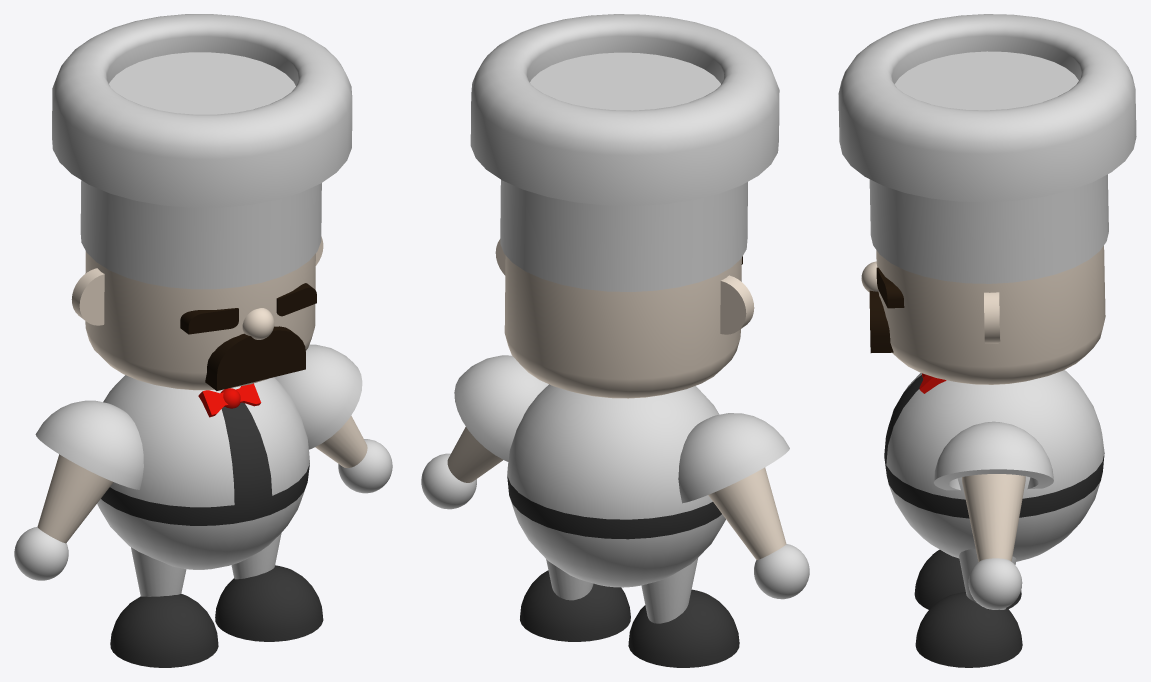
File: idle.fbx
3 renders of one model, left to right at view 1: azimuth 30°, elevation 25°; view 2: azimuth 150°, elevation 25°; view 3: azimuth 270°, elevation 25°, orthographic. The views are drawn at different scales.
Visible parts, largest first — view 1: head, torso, right arm, left arm, right foot, left foot; view 2: head, torso, right arm, left arm, right foot, left foot; view 3: head, torso, left arm, left foot, right foot.
Part boxes in pixels (x1,y1,x2,y2): head: (52,14,352,390); torso: (97,375,309,569); right arm: (14,400,143,580); left arm: (274,344,392,493); right foot: (110,547,218,667); left foot: (215,533,323,641); head: (470,14,779,398); torso: (507,384,725,587); right arm: (678,413,809,599); left arm: (421,355,548,509); right foot: (628,558,739,667); left foot: (520,559,630,641); head: (838,14,1136,384); torso: (884,370,1104,561); left arm: (933,421,1053,609); left foot: (915,549,1022,667); right foot: (914,549,1021,609).
Size of the model in its own units: 237 by 342 by 167.
